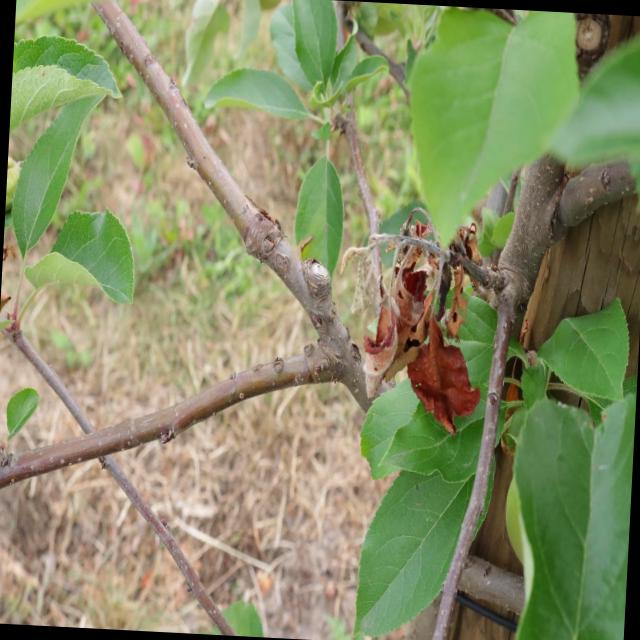-FireBlight-: (349, 213, 493, 426)
